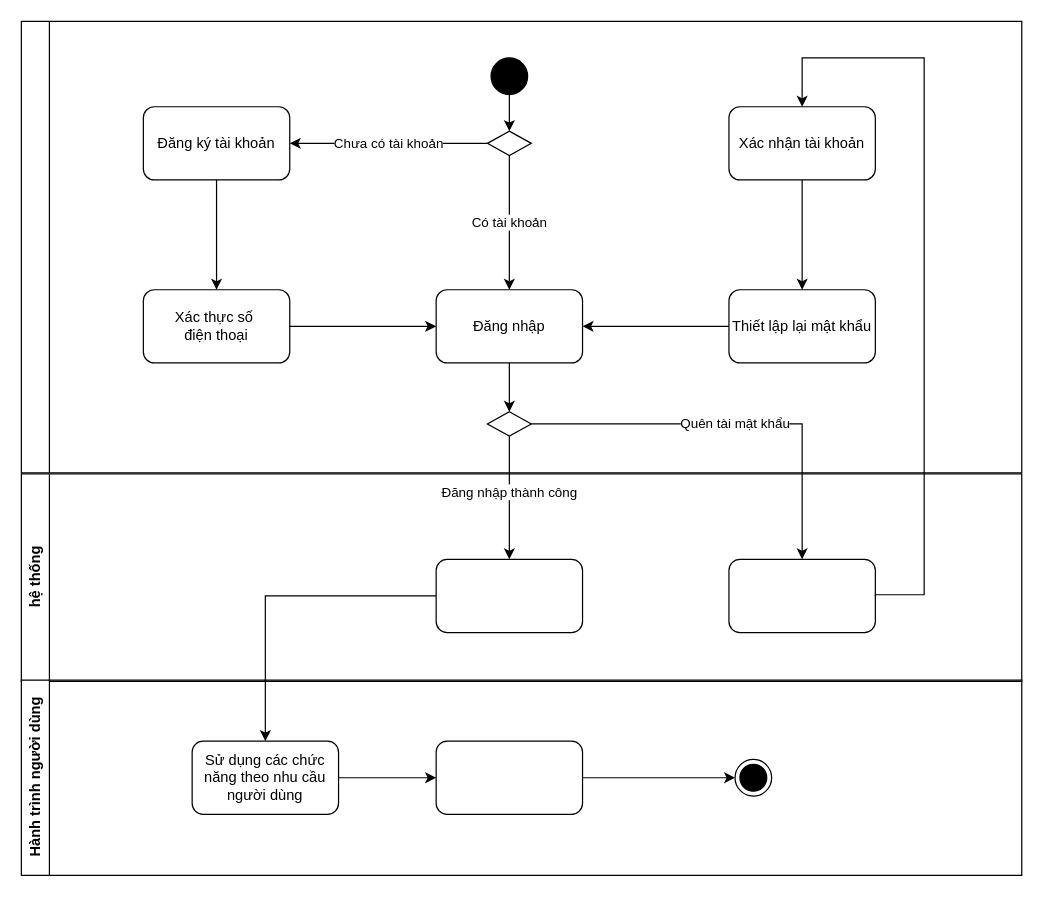
This 1043x897 diagram has some shape labels left out. The shapes that lost their labels are listed below. From the top down, each one's box as (x1, y1, x2, y2) in pixels, then its label:
(20, 20, 1022, 473): Khách
(435, 558, 583, 633): Hiển thị các chức năng tương ứng với người dùng
(728, 558, 875, 633): Gửi đường link về số điện thoại đã liên kết
(435, 740, 583, 814): Đăng xuất
